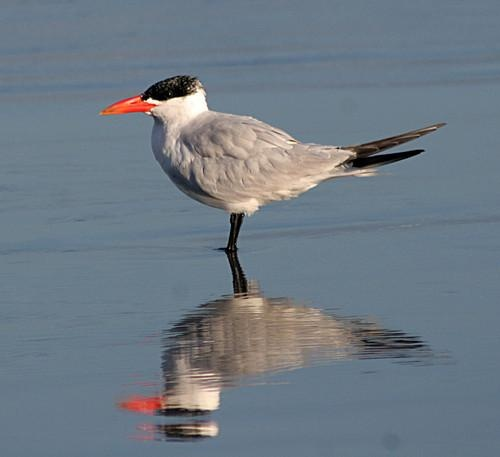bird: (97, 73, 448, 251)
